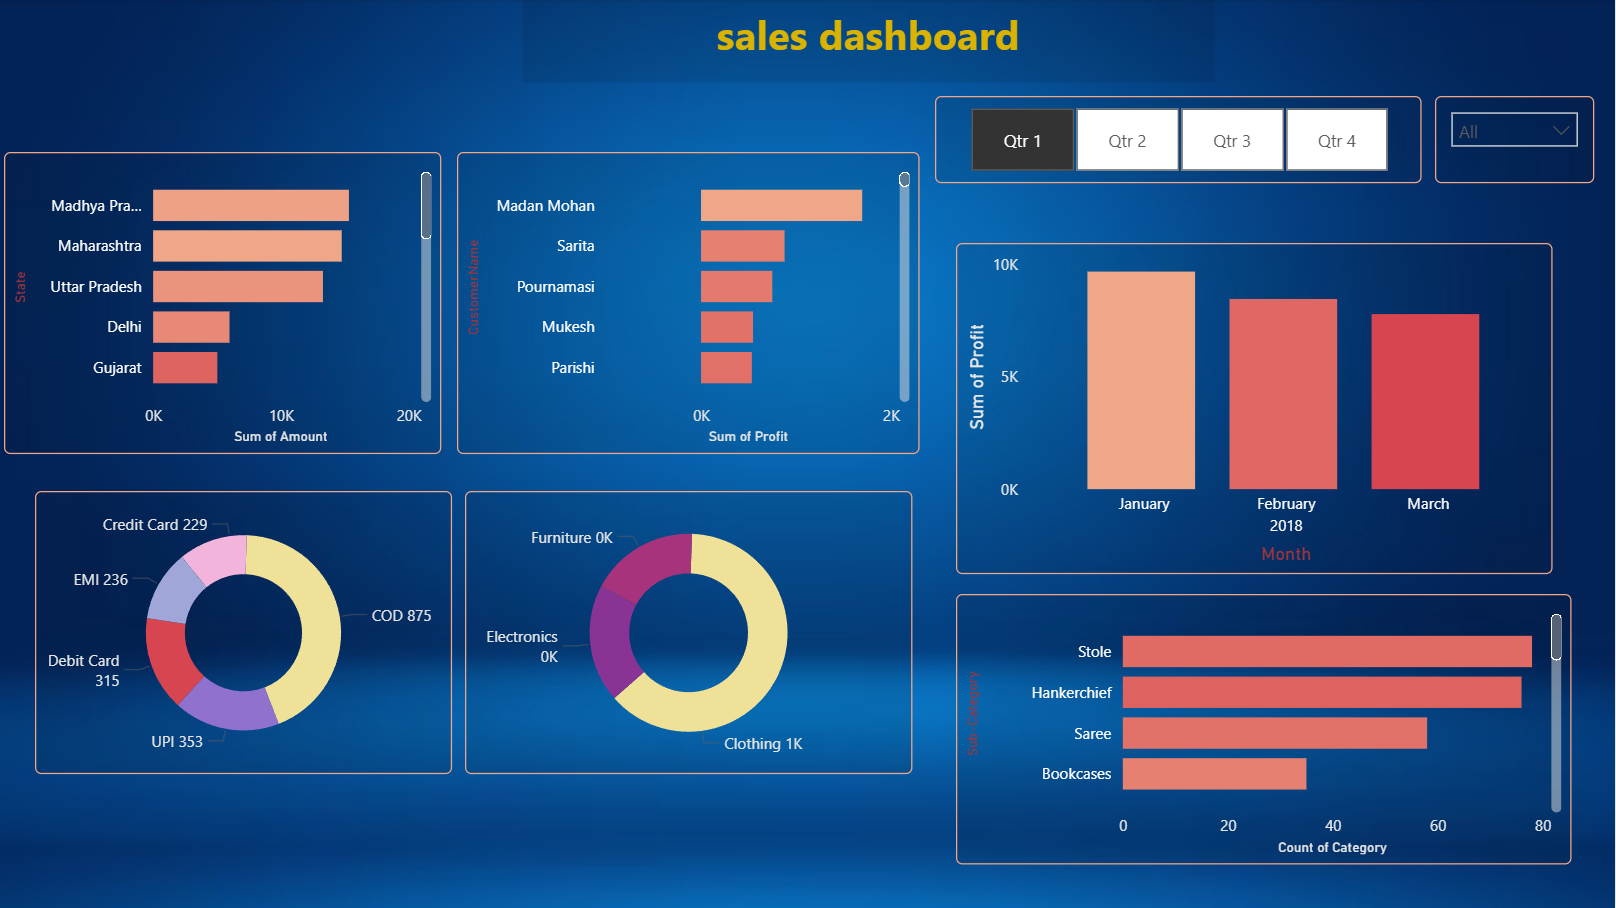

This screenshot's page, from the dashboard's own definition file:
{"tool":"powerbi","page":{"name":"Page 1","canvas":[1280,720],"ordinal":0},"visuals":[{"type":"textbox","box":[416.1,0,546.5,66.2],"z":0},{"type":"lineStackedColumnComboChart","fields":{"Category":["Orders.Order Date.Variation.Date Hierarchy.Year","Orders.Order Date.Variation.Date Hierarchy.Month"],"Y":["Sum(details file.Profit)"]},"box":[758.4,192.7,471.7,261.8],"z":1000},{"type":"donutChart","fields":{"Category":["details file.Category"],"Y":["Sum(details file.Quantity)"]},"box":[370.1,389.3,353.8,224.4],"z":2000},{"type":"donutChart","fields":{"Category":["details file.PaymentMode","details file.Category"],"Y":["Sum(details file.Quantity)"]},"box":[29.7,389.3,329.8,224.4],"z":3000},{"type":"clusteredBarChart","fields":{"Category":["Orders.State"],"Y":["Sum(details file.Amount)"]},"box":[5.8,120.8,346.1,238.7],"z":4000},{"type":"clusteredBarChart","fields":{"Category":["Orders.CustomerName"],"Y":["Sum(details file.Profit)"]},"box":[364.3,120.8,366.3,238.7],"z":5000},{"type":"clusteredBarChart","fields":{"Category":["details file.Sub-Category"],"Y":["CountNonNull(details file.Category)"]},"box":[758.4,470.8,487.1,213.8],"z":6000},{"type":"slicer","fields":{"Values":["Orders.Order Date.Variation.Date Hierarchy.Quarter"]},"box":[742.1,76.7,385.4,69],"z":7000},{"type":"slicer","fields":{"Values":["Orders.State","Orders.Order Date.Variation.Date Hierarchy.Quarter"]},"box":[1138.1,76.7,125.6,69],"z":8000}]}

Visuals, with their boxes in screenshot pixels (x1, y1, x2, y2), scaled from the page's 1280x720 canvas onto the 1616x908 screenshot:
textbox: 525:0:1215:83
lineStackedColumnComboChart - Orders.Order Date.Variation.Date Hierarchy.Year x Orders.Order Date.Variation.Date Hierarchy.Month: 957:243:1553:573
donutChart - details file.Category x Sum(details file.Quantity): 467:491:914:774
donutChart - details file.PaymentMode x details file.Category: 37:491:454:774
clusteredBarChart - Orders.State x Sum(details file.Amount): 7:152:444:453
clusteredBarChart - Orders.CustomerName x Sum(details file.Profit): 460:152:922:453
clusteredBarChart - details file.Sub-Category x CountNonNull(details file.Category): 957:594:1572:863
slicer - Orders.Order Date.Variation.Date Hierarchy.Quarter: 937:97:1423:184
slicer - Orders.State x Orders.Order Date.Variation.Date Hierarchy.Quarter: 1437:97:1595:184
